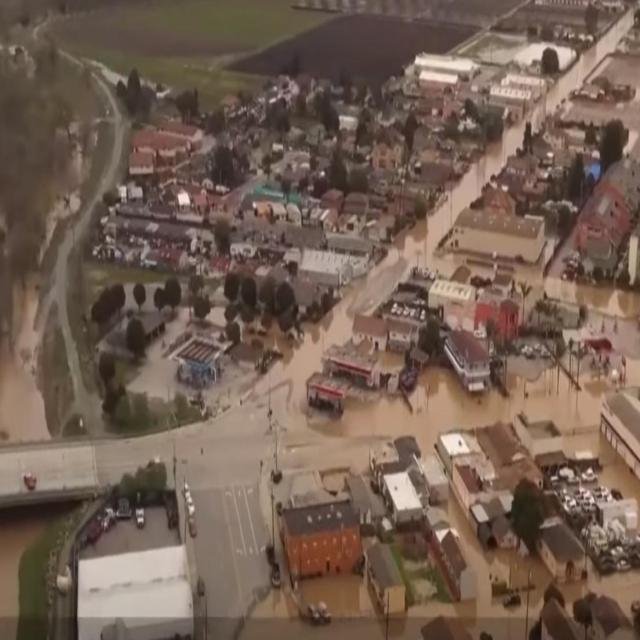flood: (279, 119, 640, 502), (389, 489, 551, 638), (515, 235, 640, 384), (531, 18, 628, 129), (0, 503, 76, 638), (240, 577, 386, 638), (0, 272, 50, 446), (558, 556, 640, 621)
house: (76, 543, 193, 640), (280, 495, 363, 593), (576, 156, 640, 267), (452, 206, 546, 266), (601, 384, 640, 489), (446, 326, 493, 400), (540, 520, 588, 586), (367, 542, 407, 617), (440, 530, 482, 601), (382, 470, 422, 527), (307, 370, 351, 418), (591, 594, 631, 640), (350, 312, 390, 355), (541, 598, 579, 640), (428, 277, 474, 310), (499, 298, 521, 340), (387, 318, 413, 352), (128, 149, 154, 176)
